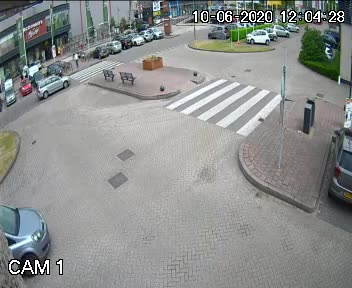car: (0, 200, 58, 274), (33, 69, 75, 96)
